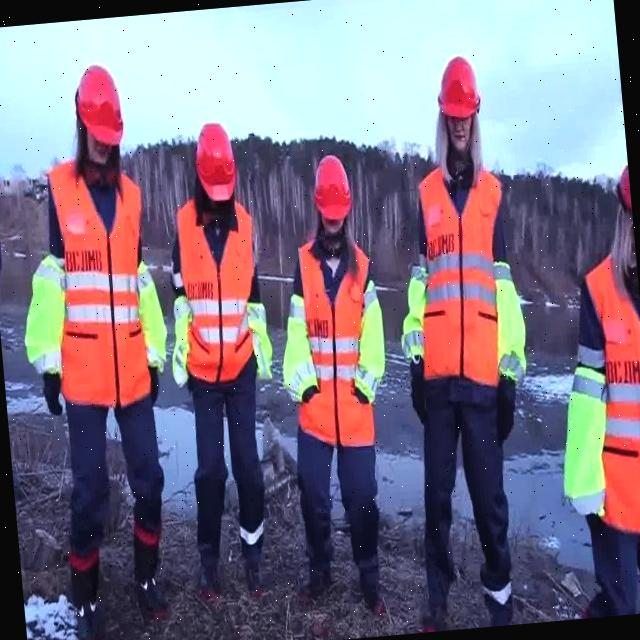vest: (47, 152, 162, 412), (415, 160, 522, 402), (282, 235, 385, 450), (581, 247, 640, 540), (170, 202, 266, 382), (552, 370, 616, 524), (16, 256, 76, 376), (342, 273, 388, 405), (489, 252, 532, 388), (274, 289, 312, 402), (134, 258, 170, 376), (394, 262, 436, 360), (165, 292, 194, 395), (246, 292, 274, 378)
